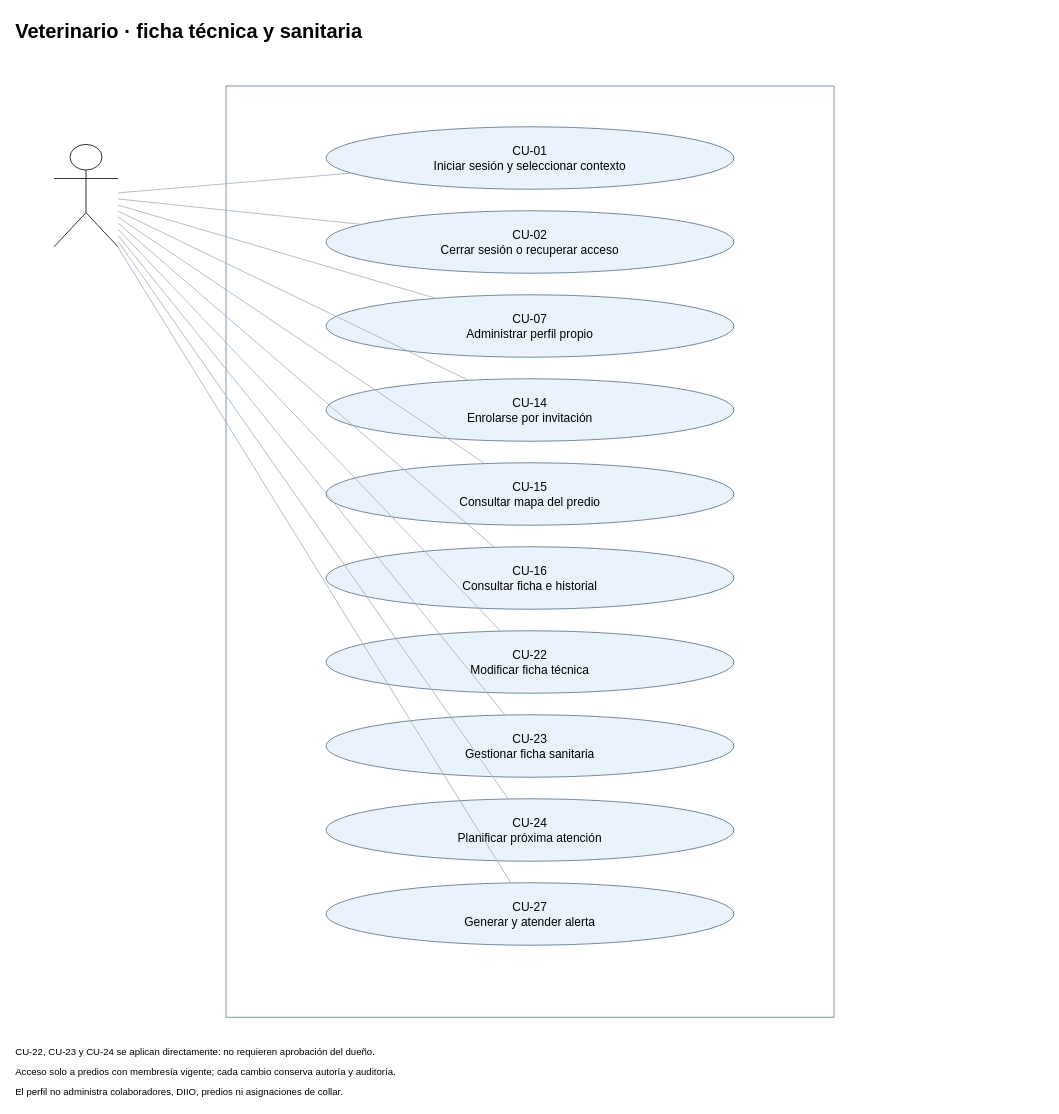
This 1059x1114 diagram has some shape labels left out. The box of each missing label's shape, as (x1, y1, x2, y2) in pixels:
GeoCattle · aplicación de gestión: (225, 85, 834, 1017)
Veterinario: (53, 144, 118, 247)
